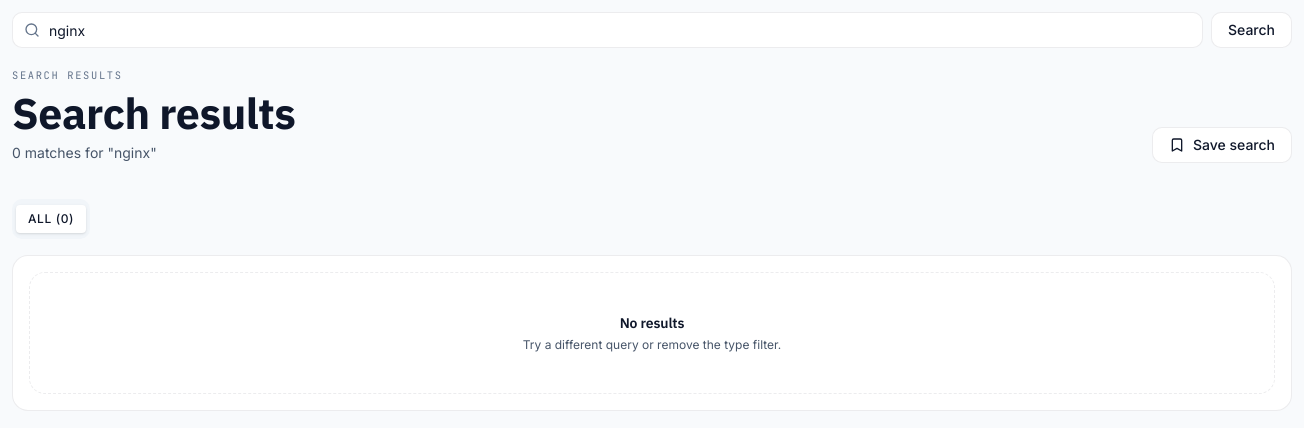
SearchResults › saves the current query through the saved-search API
The width and height of the screenshot is (1304, 428).
Expected: the text "0 matches for \"nginx\"" is shown, [12,144,157,161]
Step 1. Click the button "Save search" → (1222, 145), box [1152,127,1292,163]
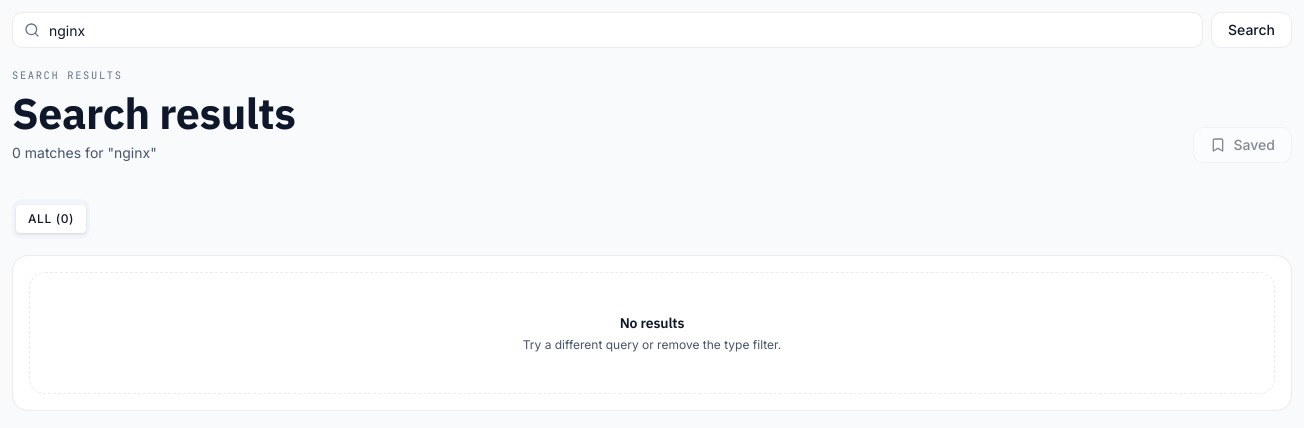
Expected: the button "Saved" is disabled, [1193,127,1292,163]
